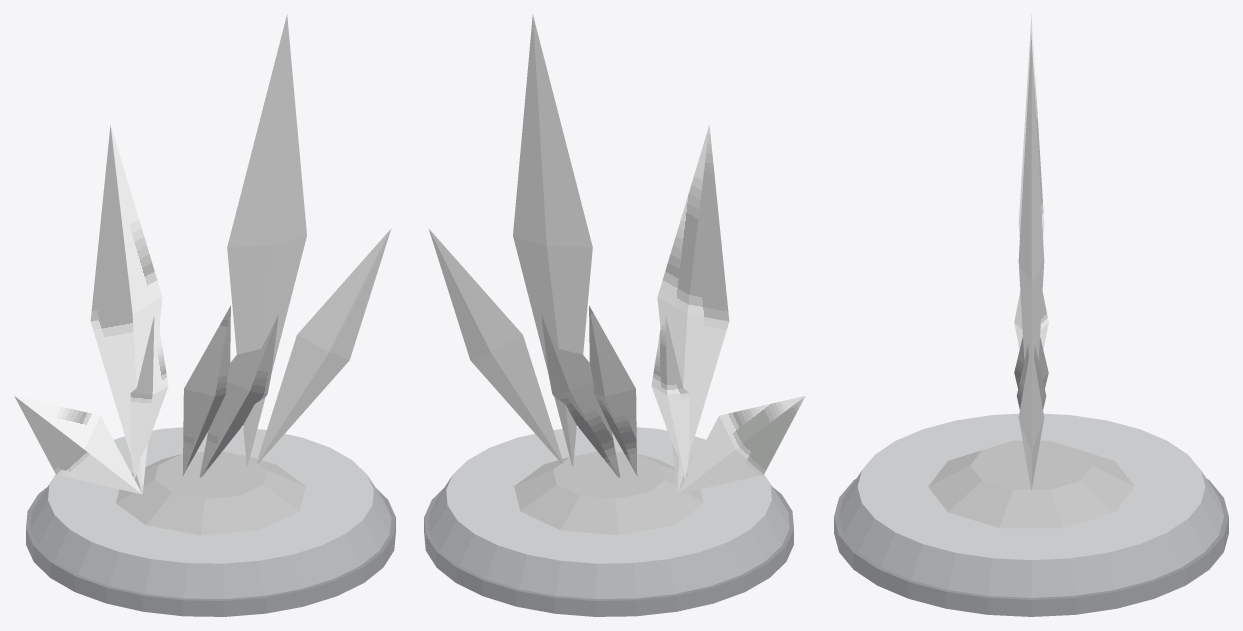
The model's file is Building_SculptureTerror__C.glb.
3 views of the same model, side by side, from view 1: azimuth 30°, elevation 25°; view 2: azimuth 150°, elevation 25°; view 3: azimuth 270°, elevation 25° (orthographic). The views are drawn at different scales.
Visible parts, largest first — view 1: SculptureTerror__C; view 2: SculptureTerror__C; view 3: SculptureTerror__C.
Boxes of the visible parts, x1,y1,x2,y2 form: SculptureTerror__C: (14, 14, 395, 616); SculptureTerror__C: (424, 14, 805, 616); SculptureTerror__C: (834, 14, 1228, 616).
Size of the model in its own units: 0.987 by 1.26 by 0.84.
1 material, 1 textured.
